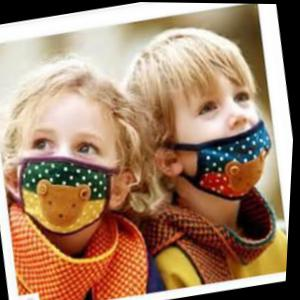OK: (6, 113, 135, 240)
WRONG: (173, 65, 282, 198)
